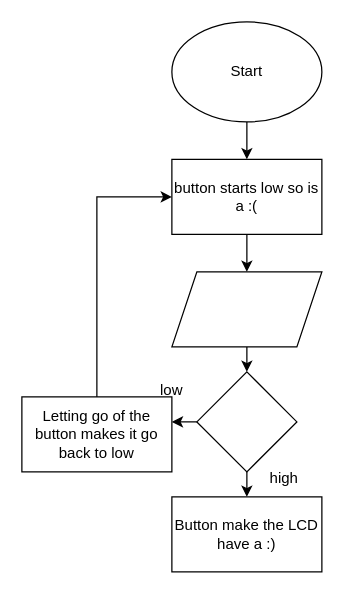
The diagram is 344 pixels wide and 594 high, and some of its shapes have lost their labels. Here are the shapes that lost their labels. From the top down, the box of each, then its label:
(171, 271, 322, 347): If the user presses the button
(196, 371, 297, 472): If button goes high
